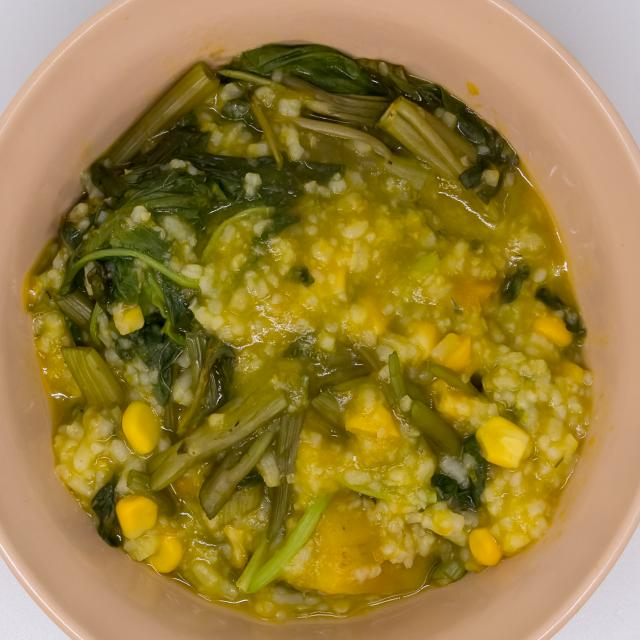Bubur-Manado: (15, 26, 602, 622)
